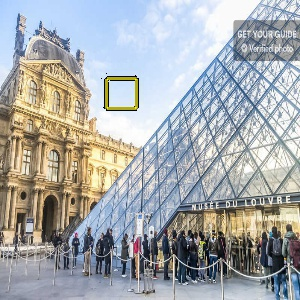square: (103, 74, 139, 111)
